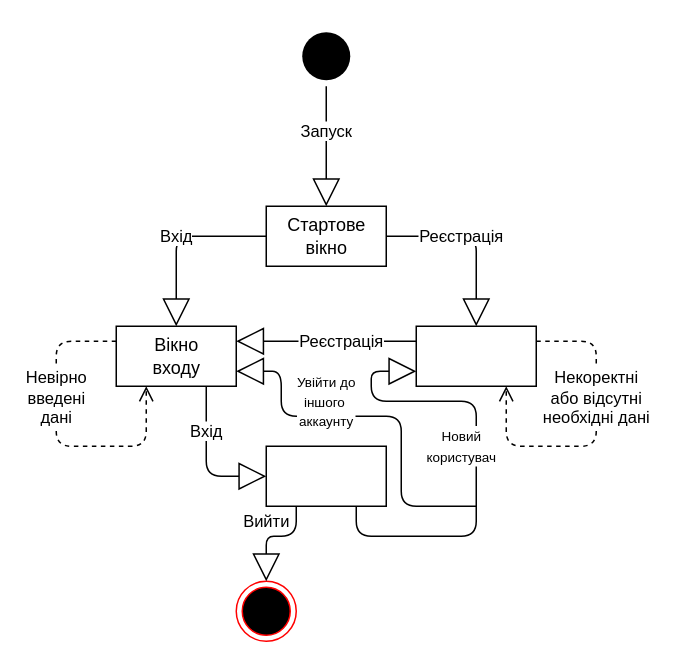
The diagram is 675 pixels wide and 668 high, and some of its shapes have lost their labels. The box of each missing label's shape, as (x1, y1, x2, y2) in pixels:
Вікно аккаунту: (265, 445, 386, 506)
Вікно реєстрації: (415, 325, 536, 386)
